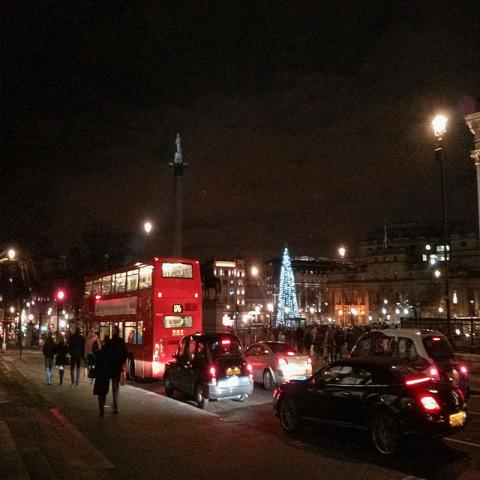bus: (78, 258, 205, 376)
car: (274, 355, 468, 456), (343, 328, 472, 404), (162, 333, 255, 412), (244, 341, 312, 392)
